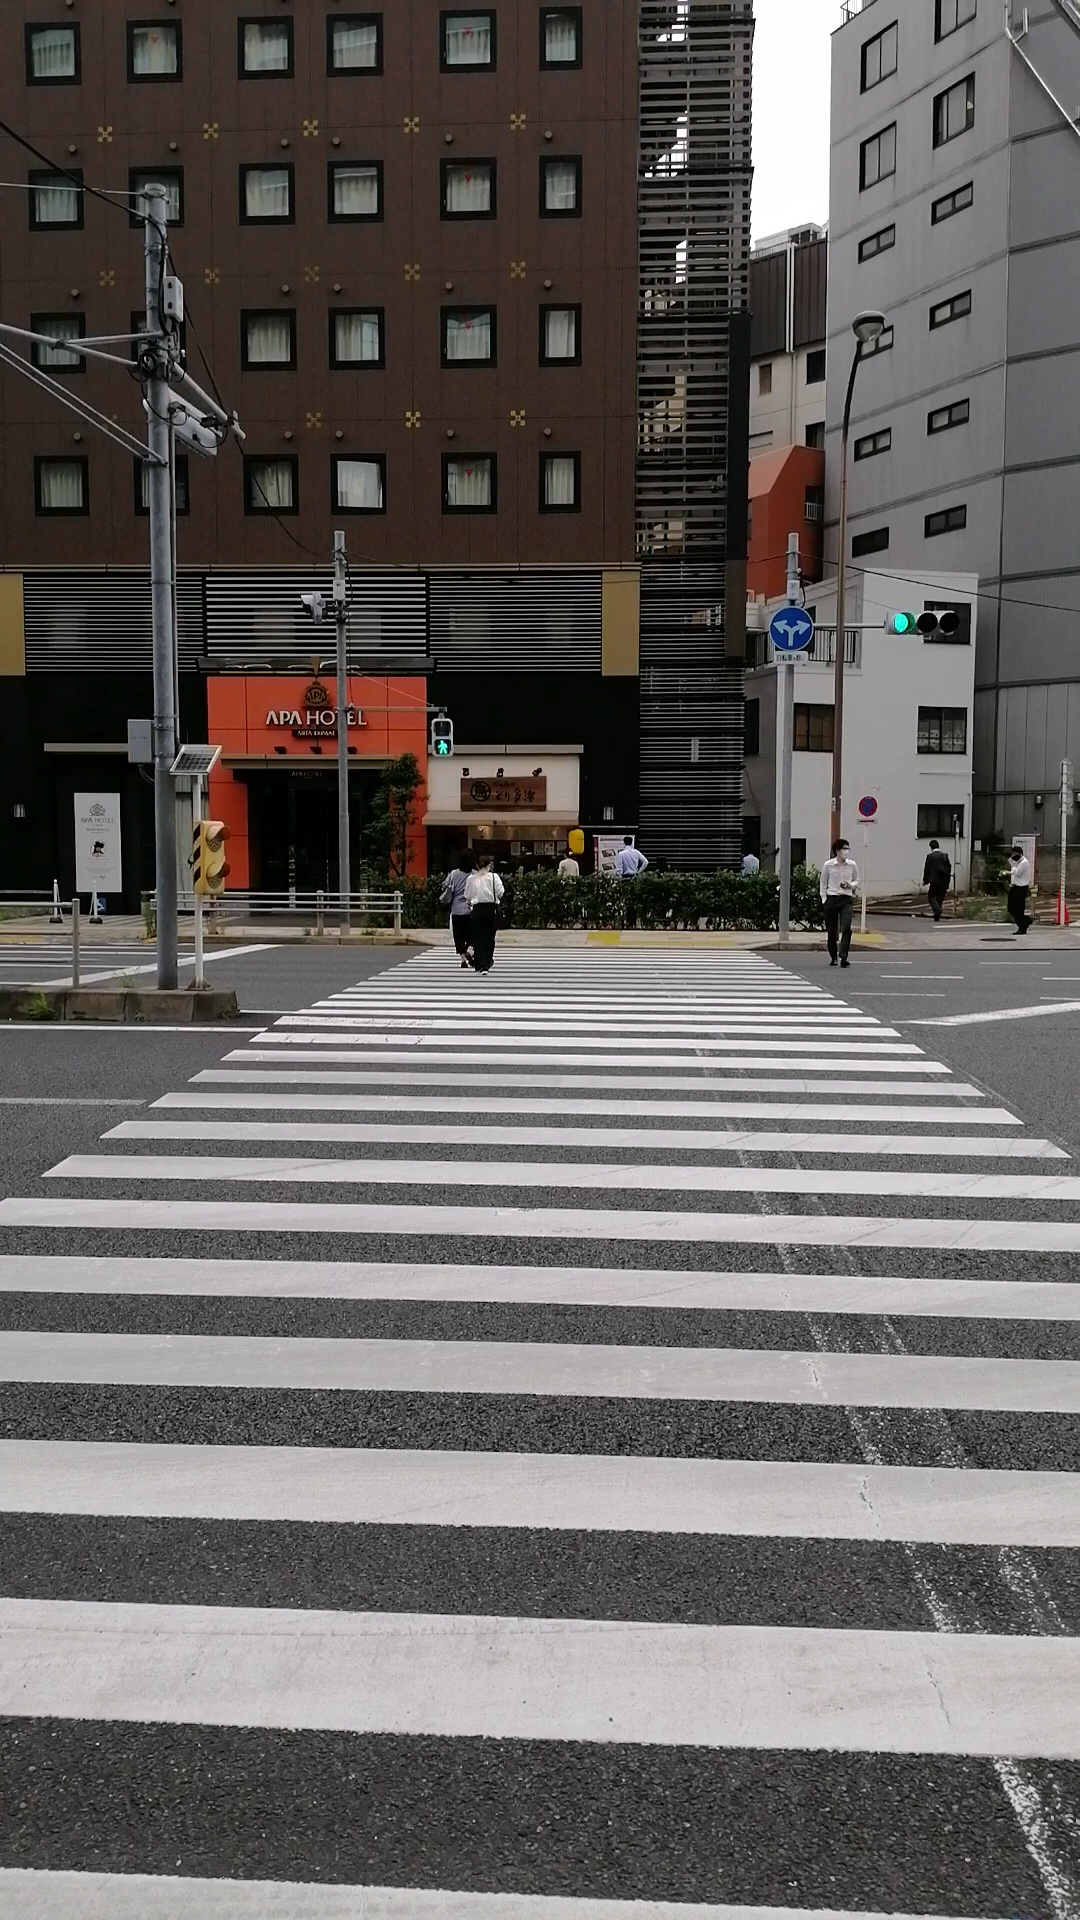green: (430, 717, 454, 760)
